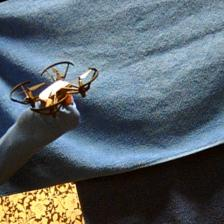drone: (9, 60, 99, 120)
